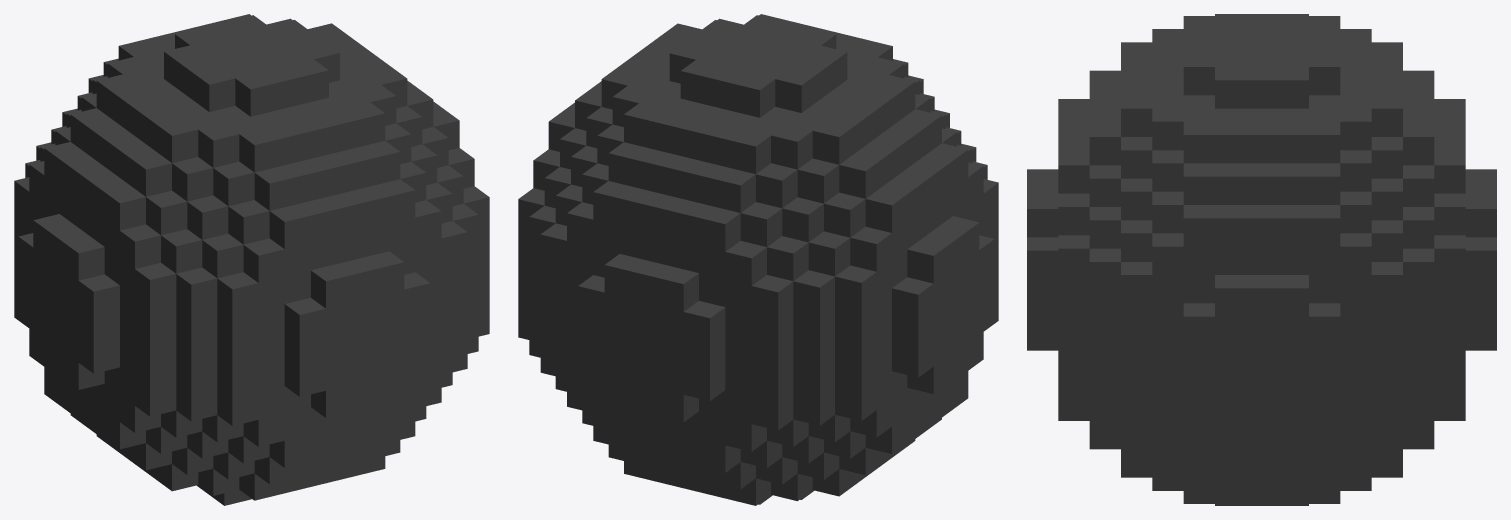
The model's file is ball.obj.
3 views of the same model, side by side, from view 1: azimuth 30°, elevation 25°; view 2: azimuth 150°, elevation 25°; view 3: azimuth 270°, elevation 25° (orthographic). The views are drawn at different scales.
Bounding box in the file's own units: 1.5 × 1.5 × 1.5.
Materials: 1 (1 with a texture image).
